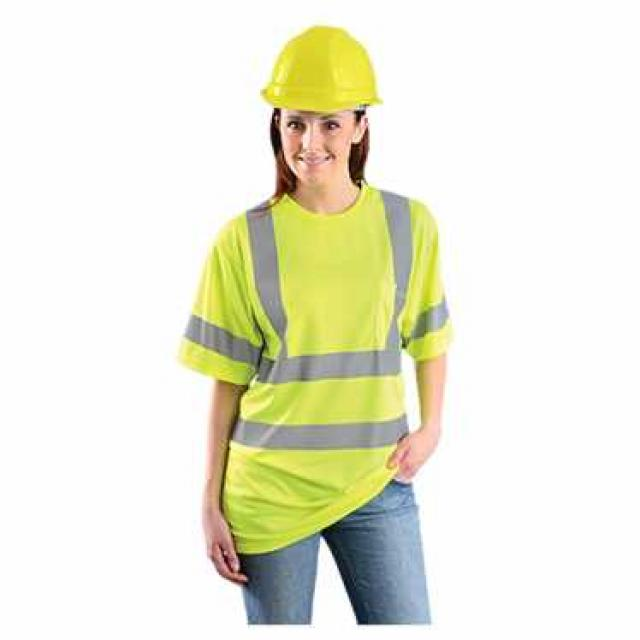Reflective-Jacket: (178, 185, 455, 491)
Safety-Helmet: (255, 20, 388, 120)
